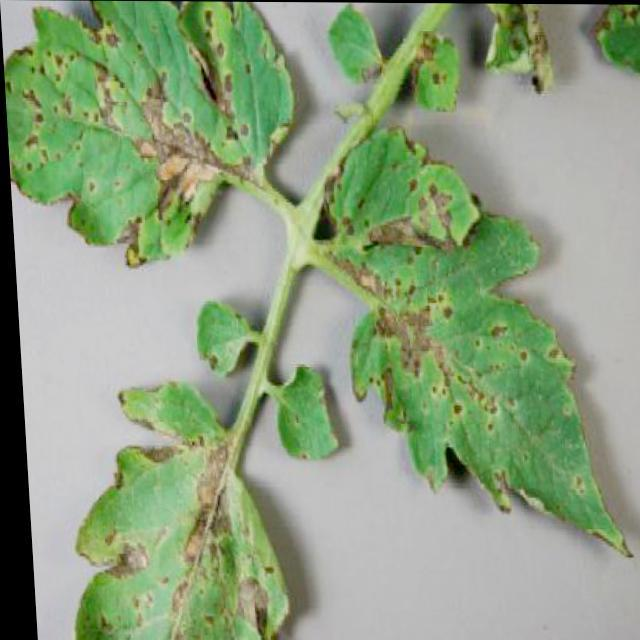Tomato Septoria spot leaf: (318, 126, 638, 583), (1, 1, 310, 292), (42, 373, 294, 640)
